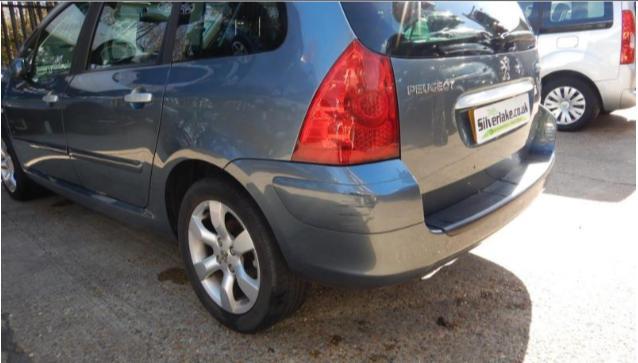Scratch: (339, 191, 379, 207), (341, 216, 375, 224), (346, 167, 363, 182), (140, 206, 157, 221), (341, 212, 370, 216), (361, 184, 371, 192), (350, 175, 358, 182), (287, 62, 295, 69), (300, 54, 306, 62), (359, 186, 364, 190)
